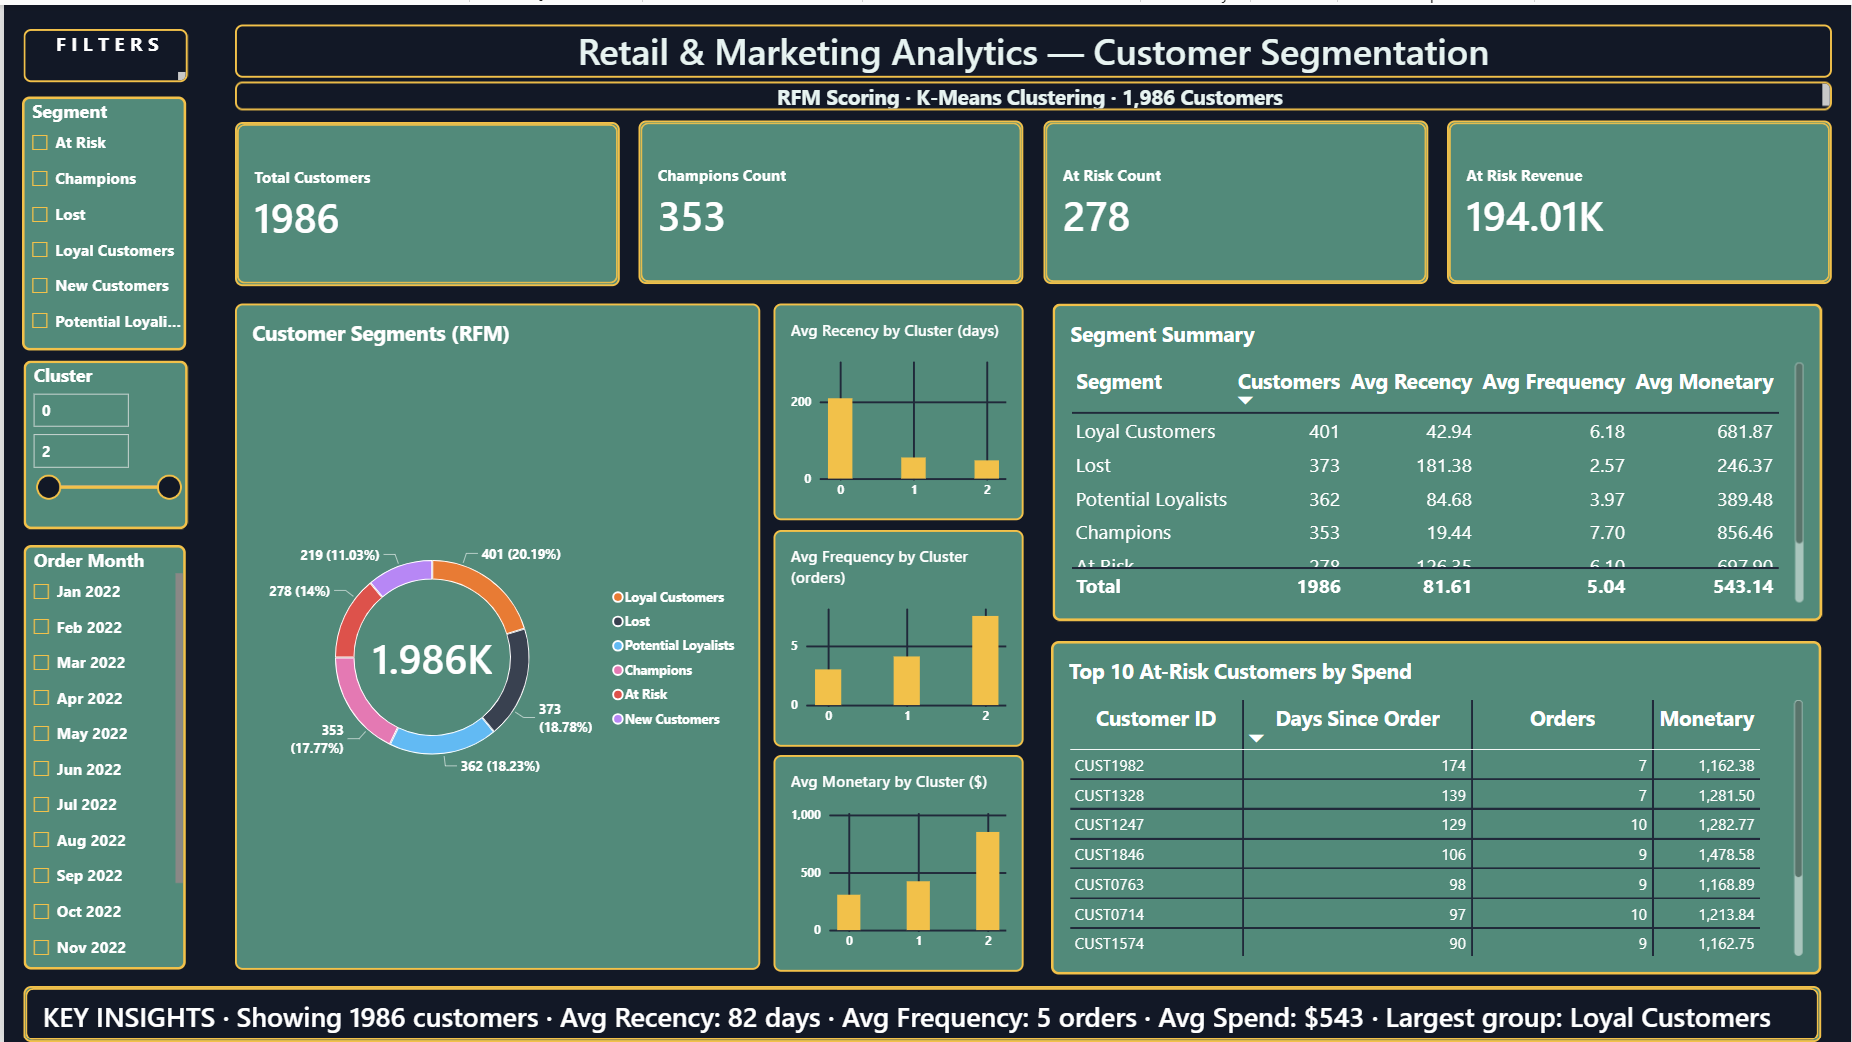

The page's visual inventory and layout, read from the dashboard file:
{"tool":"powerbi","page":{"name":"Customer Segmentation","canvas":[1920,1080],"ordinal":1},"visuals":[{"type":"textbox","box":[240,20,1660,55],"z":0},{"type":"textbox","box":[240,80,1660,30],"z":1000},{"type":"cardVisual","fields":{"Data":["cleaned_retail_sales.Total Customers"]},"box":[239.5,121.3,400,170.3],"z":2000},{"type":"cardVisual","fields":{"Data":["rfm_analysis.At Risk Count"]},"box":[1080,120,400,170],"z":3000},{"type":"cardVisual","fields":{"Data":["rfm_analysis.At Risk Revenue"]},"box":[1500,120,400,170],"z":4000},{"type":"cardVisual","fields":{"Data":["rfm_analysis.Champions Count"]},"box":[660,120,400,170],"z":5000},{"type":"donutChart","title":"Customer Segments (RFM)","fields":{"Category":["rfm_analysis.Segment"],"Y":["CountNonNull(rfm_analysis.Customer_ID)"]},"box":[239.5,309.7,546,692.9],"z":6000},{"type":"clusteredColumnChart","title":"Avg Recency by Cluster (days)","fields":{"Category":["rfm_analysis.Cluster"],"Y":["Avg(rfm_analysis.Recency)"]},"box":[800,310,260,225],"z":7000},{"type":"clusteredColumnChart","title":"Avg Frequency by Cluster (orders)","fields":{"Category":["rfm_analysis.Cluster"],"Y":["Avg(rfm_analysis.Frequency)"]},"box":[800,545,260,225],"z":8000},{"type":"clusteredColumnChart","title":"Avg Monetary by Cluster ($)","fields":{"Category":["rfm_analysis.Cluster"],"Y":["Avg(rfm_analysis.Monetary)"]},"box":[800,780,260,225],"z":9000},{"type":"tableEx","title":"Segment Summary","fields":{"Values":["rfm_analysis.Segment","rfm_analysis.Customer_ID","rfm_analysis.Recency","rfm_analysis.Frequency","rfm_analysis.Monetary"]},"box":[1090,310,800,330],"z":10000},{"type":"tableEx","title":"Top 10 At-Risk Customers by Spend","fields":{"Values":["rfm_analysis.Customer_ID","rfm_analysis.Recency","rfm_analysis.Frequency","rfm_analysis.Monetary"]},"box":[1088.6,660.3,800.9,346.5],"z":11000},{"type":"slicer","fields":{"Values":["rfm_analysis.Segment"]},"box":[19.1,95.6,170.3,264.2],"z":12000},{"type":"slicer","fields":{"Values":["rfm_analysis.Cluster"]},"box":[20.9,370.2,170.3,175],"z":13000},{"type":"textbox","title":"F I L T E R S ","box":[20.9,24.3,170.3,55.6],"z":14000},{"type":"slicer","fields":{"Values":["cleaned_retail_sales.Order_Month_Label"]},"box":[20.9,561.4,168.6,441.5],"z":15000},{"type":"cardVisual","fields":{"Data":["rfm_analysis.Dynamic Insight"]},"box":[20.9,1020.3,1868.5,59.1],"z":16000}]}

Visuals, with their boxes in screenshot pixels (x1, y1, x2, y2), scaled from the page's 1920x1080 canvas onto the 1852x1042 screenshot:
textbox: 232:19:1833:72
textbox: 232:77:1833:106
cardVisual - cleaned_retail_sales.Total Customers: 231:117:617:281
cardVisual - rfm_analysis.At Risk Count: 1042:116:1428:280
cardVisual - rfm_analysis.At Risk Revenue: 1447:116:1833:280
cardVisual - rfm_analysis.Champions Count: 637:116:1022:280
"Customer Segments (RFM)" donutChart: 231:299:758:967
"Avg Recency by Cluster (days)" clusteredColumnChart: 772:299:1022:516
"Avg Frequency by Cluster (orders)" clusteredColumnChart: 772:526:1022:743
"Avg Monetary by Cluster ($)" clusteredColumnChart: 772:753:1022:970
"Segment Summary" tableEx: 1051:299:1823:617
"Top 10 At-Risk Customers by Spend" tableEx: 1050:637:1823:971
slicer - rfm_analysis.Segment: 18:92:183:347
slicer - rfm_analysis.Cluster: 20:357:184:526
"F I L T E R S " textbox: 20:23:184:77
slicer - cleaned_retail_sales.Order_Month_Label: 20:542:183:968
cardVisual - rfm_analysis.Dynamic Insight: 20:984:1822:1041
